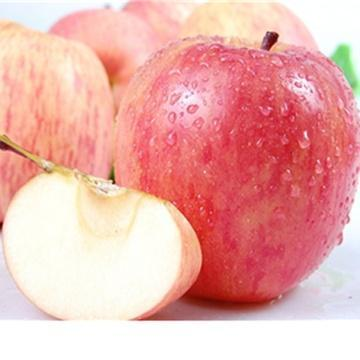apple: (110, 26, 358, 303), (1, 28, 115, 211)
